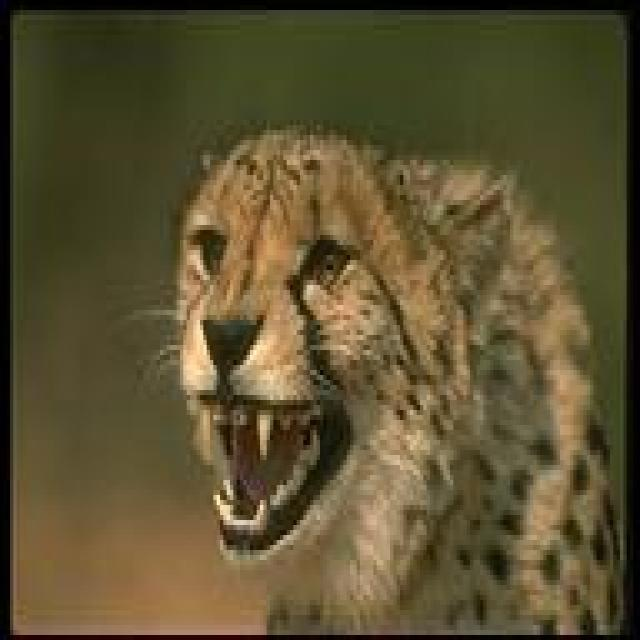Leopard: (168, 118, 628, 640)
